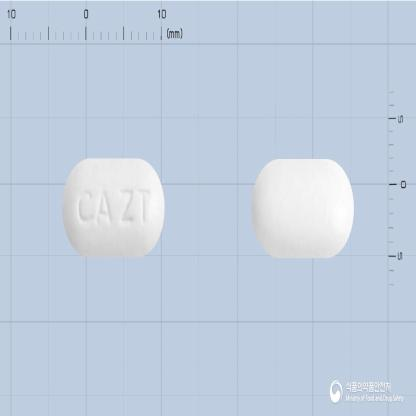pill: (60, 154, 166, 257), (250, 157, 356, 260)
